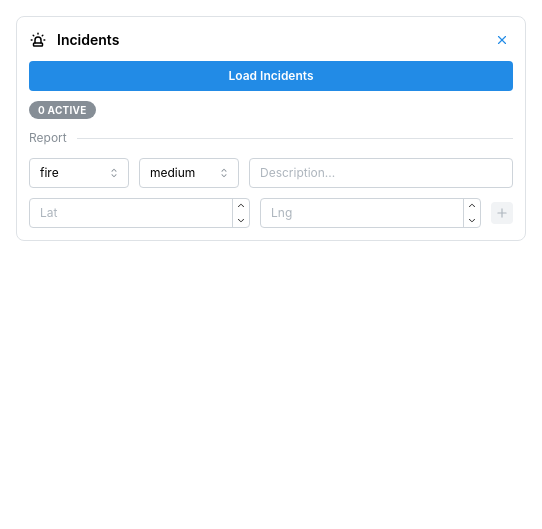
Test case: vertical plugins draw API geometry › emergency draws nothing when the incident carries no assembly points
The width and height of the screenshot is (542, 529).
Click the button "Load Incidents".
click(271, 76)  # box top-left (29, 61), bottom-right (513, 91)
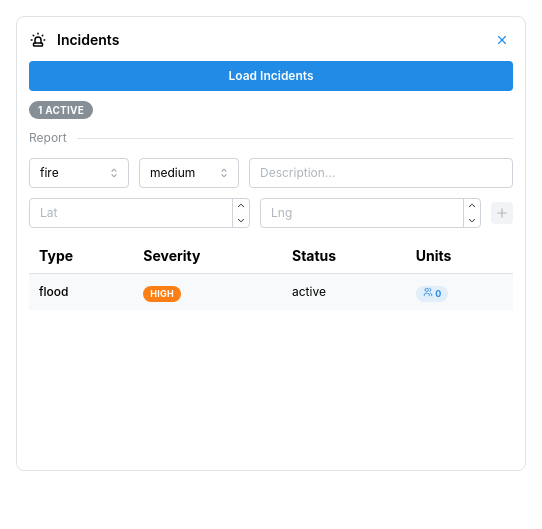
Click the text "flood".
click(271, 292)  # box top-left (29, 274), bottom-right (513, 310)
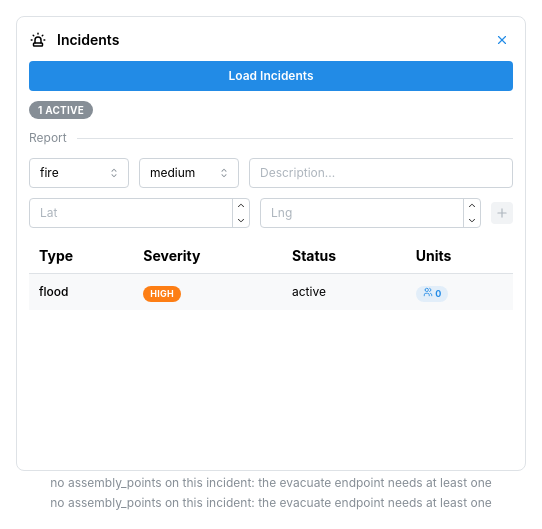
Expected: the text "no assembly_points on this incident" is shown 2 times, top-left (16, 475), bottom-right (526, 491); top-left (16, 495), bottom-right (526, 512)
